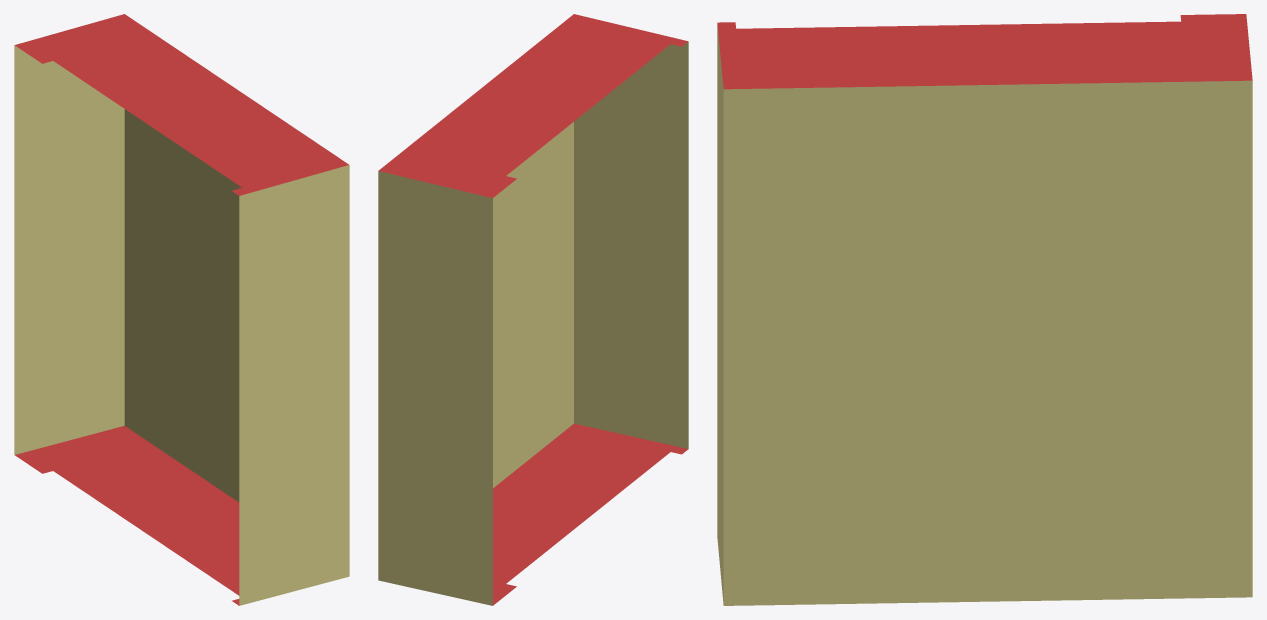
3 views of the same model, side by side, from view 1: azimuth 30°, elevation 25°; view 2: azimuth 150°, elevation 25°; view 3: azimuth 270°, elevation 25° (orthographic). The views are drawn at different scales.
Visible parts, largest first — view 1: group_4, group_3, group_5; view 2: group_4, group_3, group_5; view 3: group_4, group_3.
Part boxes in pixels (x1,y1,x2,y2): group_4: [14, 45, 349, 605]; group_3: [15, 14, 348, 195]; group_5: [15, 426, 239, 605]; group_4: [378, 41, 688, 605]; group_3: [378, 14, 688, 197]; group_5: [493, 423, 688, 605]; group_4: [717, 24, 1252, 605]; group_3: [717, 14, 1252, 89].
Size of the model in its own units: 2.32 by 6.78 by 7.22.
